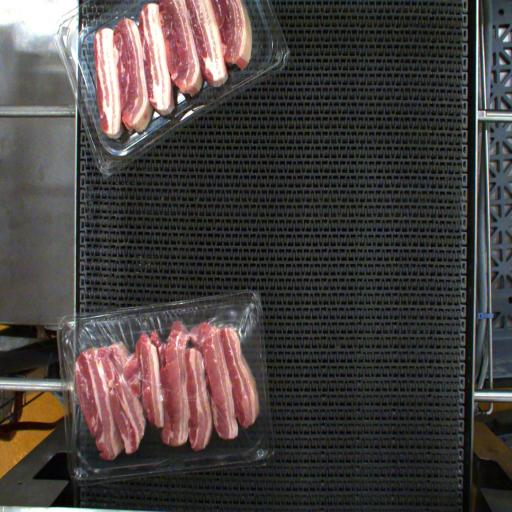unsealed: (60, 319, 284, 466)
